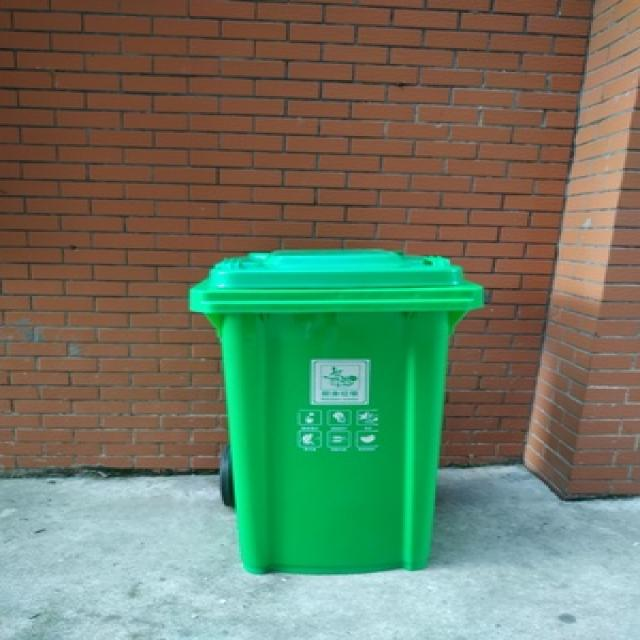ash bin: (186, 245, 484, 576)
